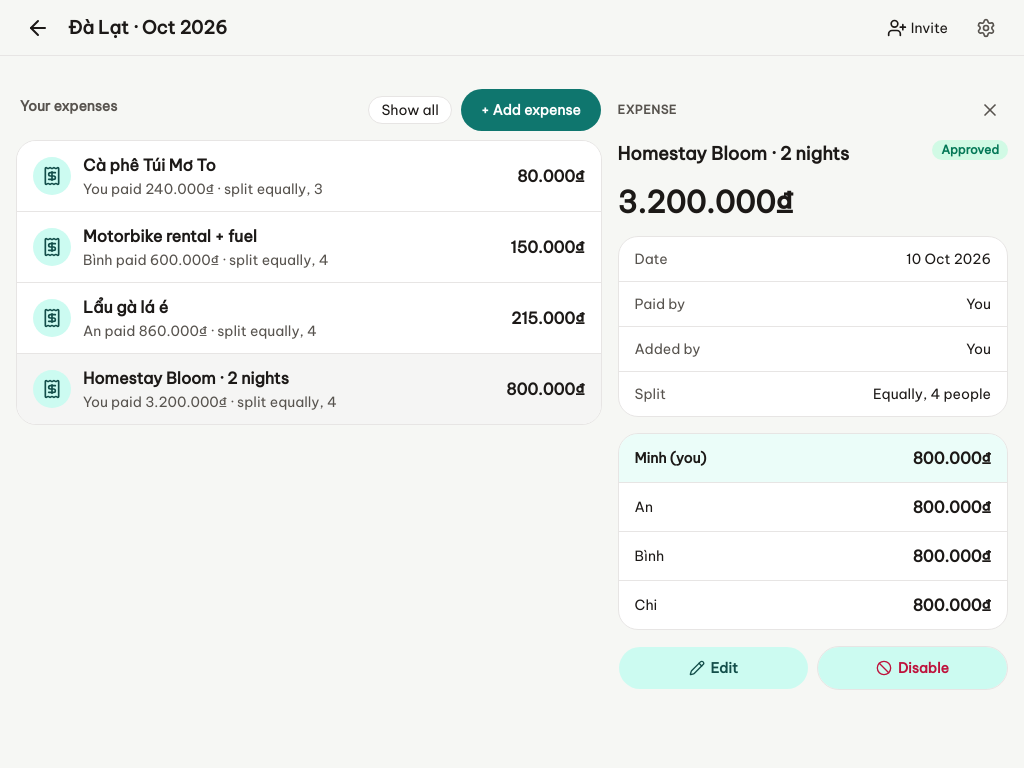
transaction details › on a wide screen the details sit next to the list
The image size is (1024, 768).
Expected: the heading "Đà Lạt · Oct 2026" is shown, [68, 16, 227, 38]
Expected: the link "+ Add expense" is shown, [460, 88, 602, 132]
Click the button named "Close". click: (990, 110)
box: [968, 88, 1012, 132]
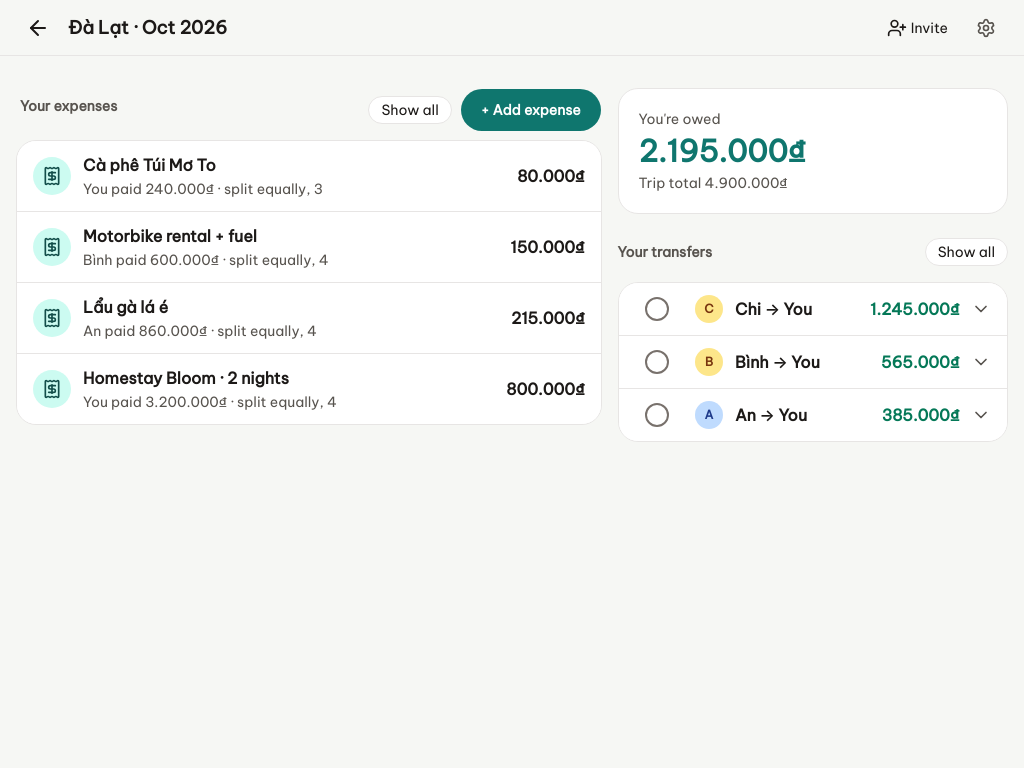
Expected: the text "You're owed" is shown, [639, 109, 720, 129]
